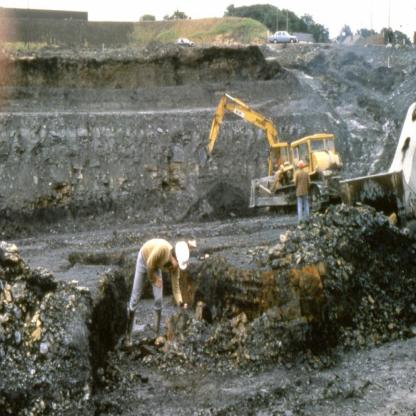person: (119, 207, 193, 354), (285, 157, 313, 233)
